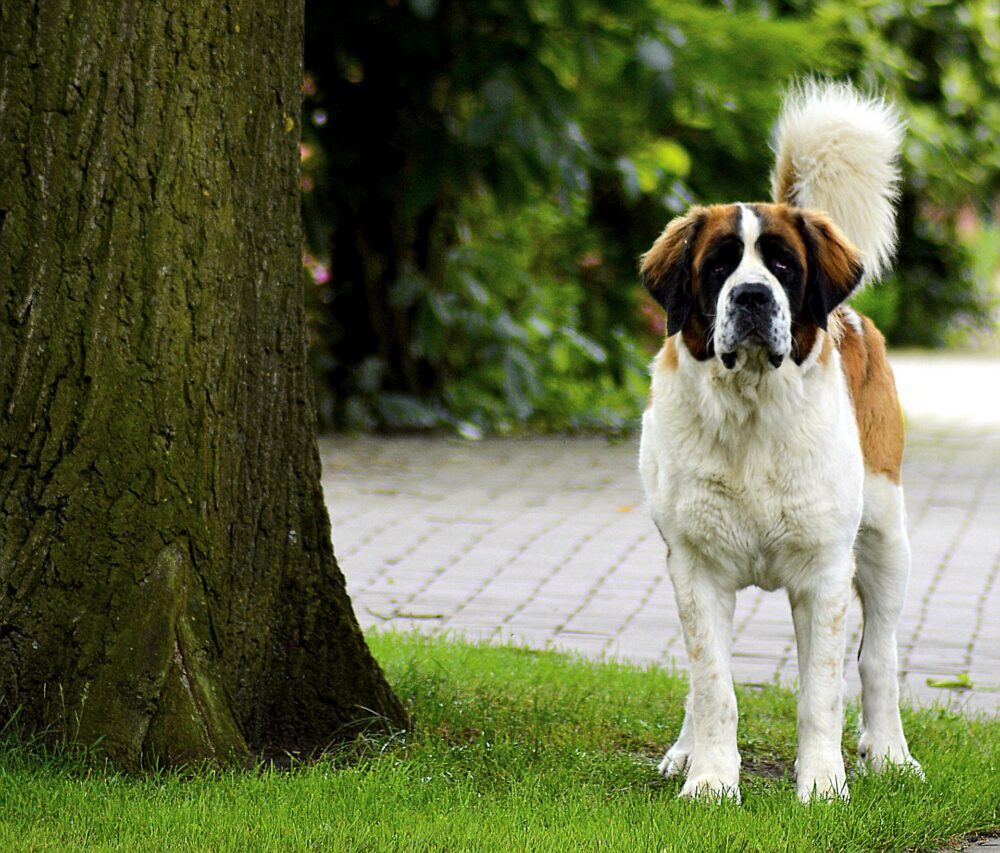dog: (612, 165, 941, 801)
